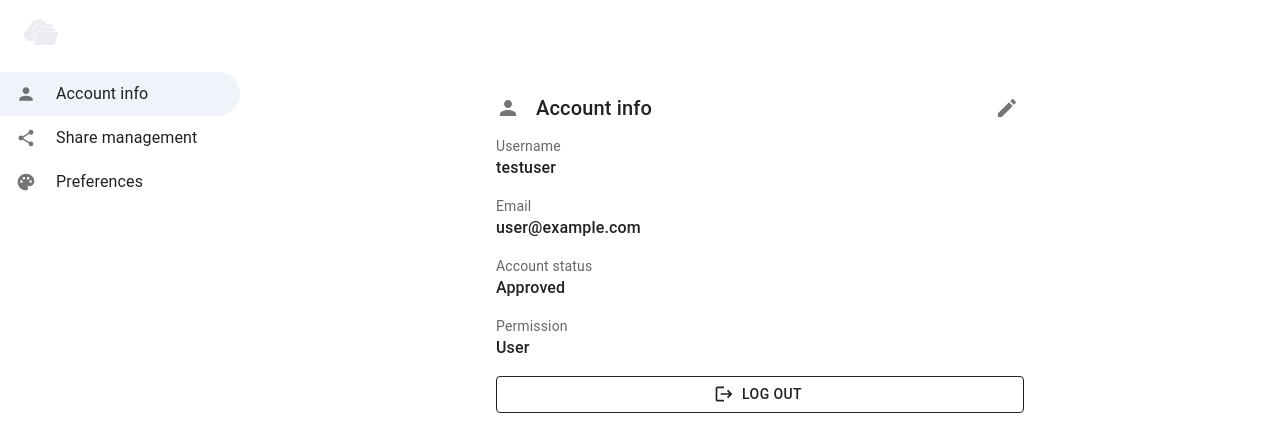
MyPage › share links: shows empty state when no links
Click the button "Share management" at x=107, y=138, box [16,128,198,148]
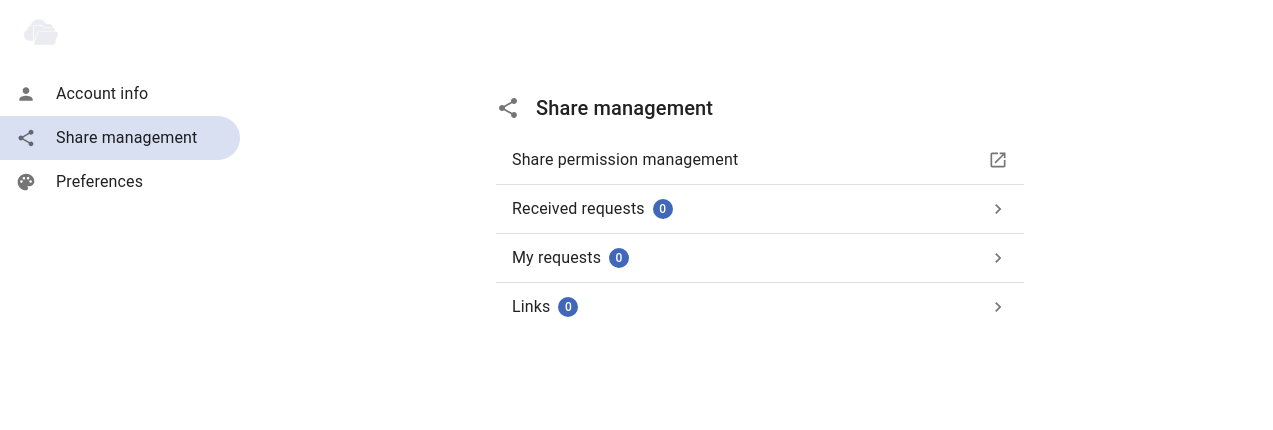
Expected: the button "Links 0" is shown
Click the button "Links 0" at x=531, y=306, box [512,297,1008,317]
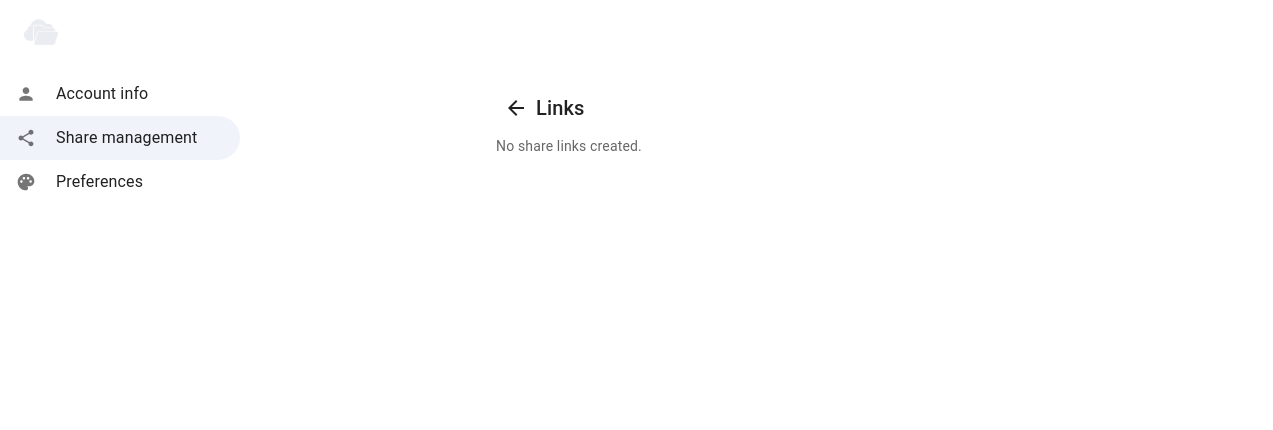
Expected: the text "No share links created." is shown, [496,138,642,154]
